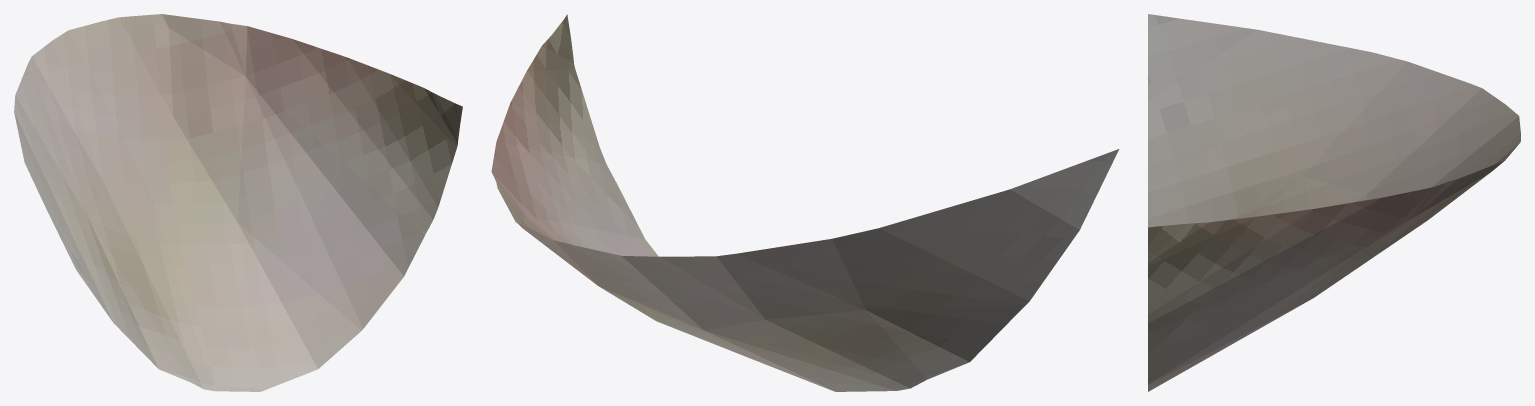
3 views of the same model, side by side, from view 1: azimuth 30°, elevation 25°; view 2: azimuth 150°, elevation 25°; view 3: azimuth 270°, elevation 25° (orthographic). The views are drawn at different scales.
Bounding box in the file's own units: 17.18 × 9.29 × 12.68.
1 material, 1 textured.
